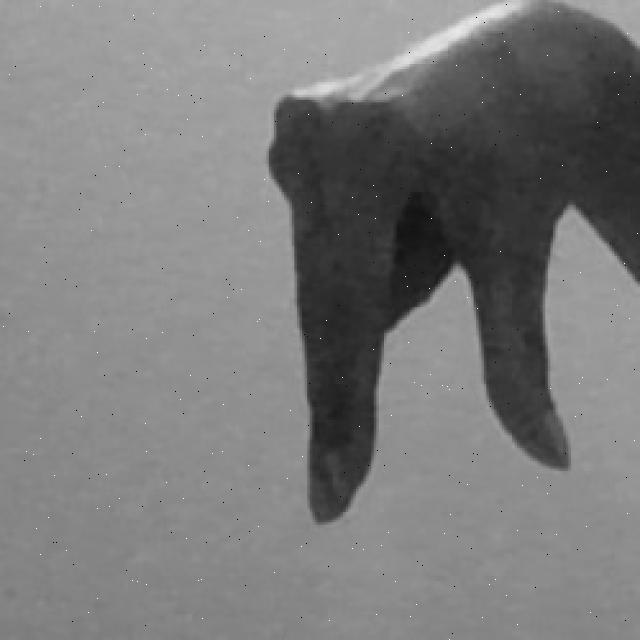Q: (240, 0, 640, 535)
